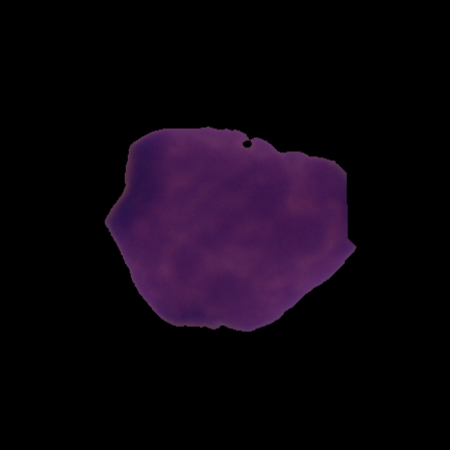ALL: (102, 122, 359, 333)
